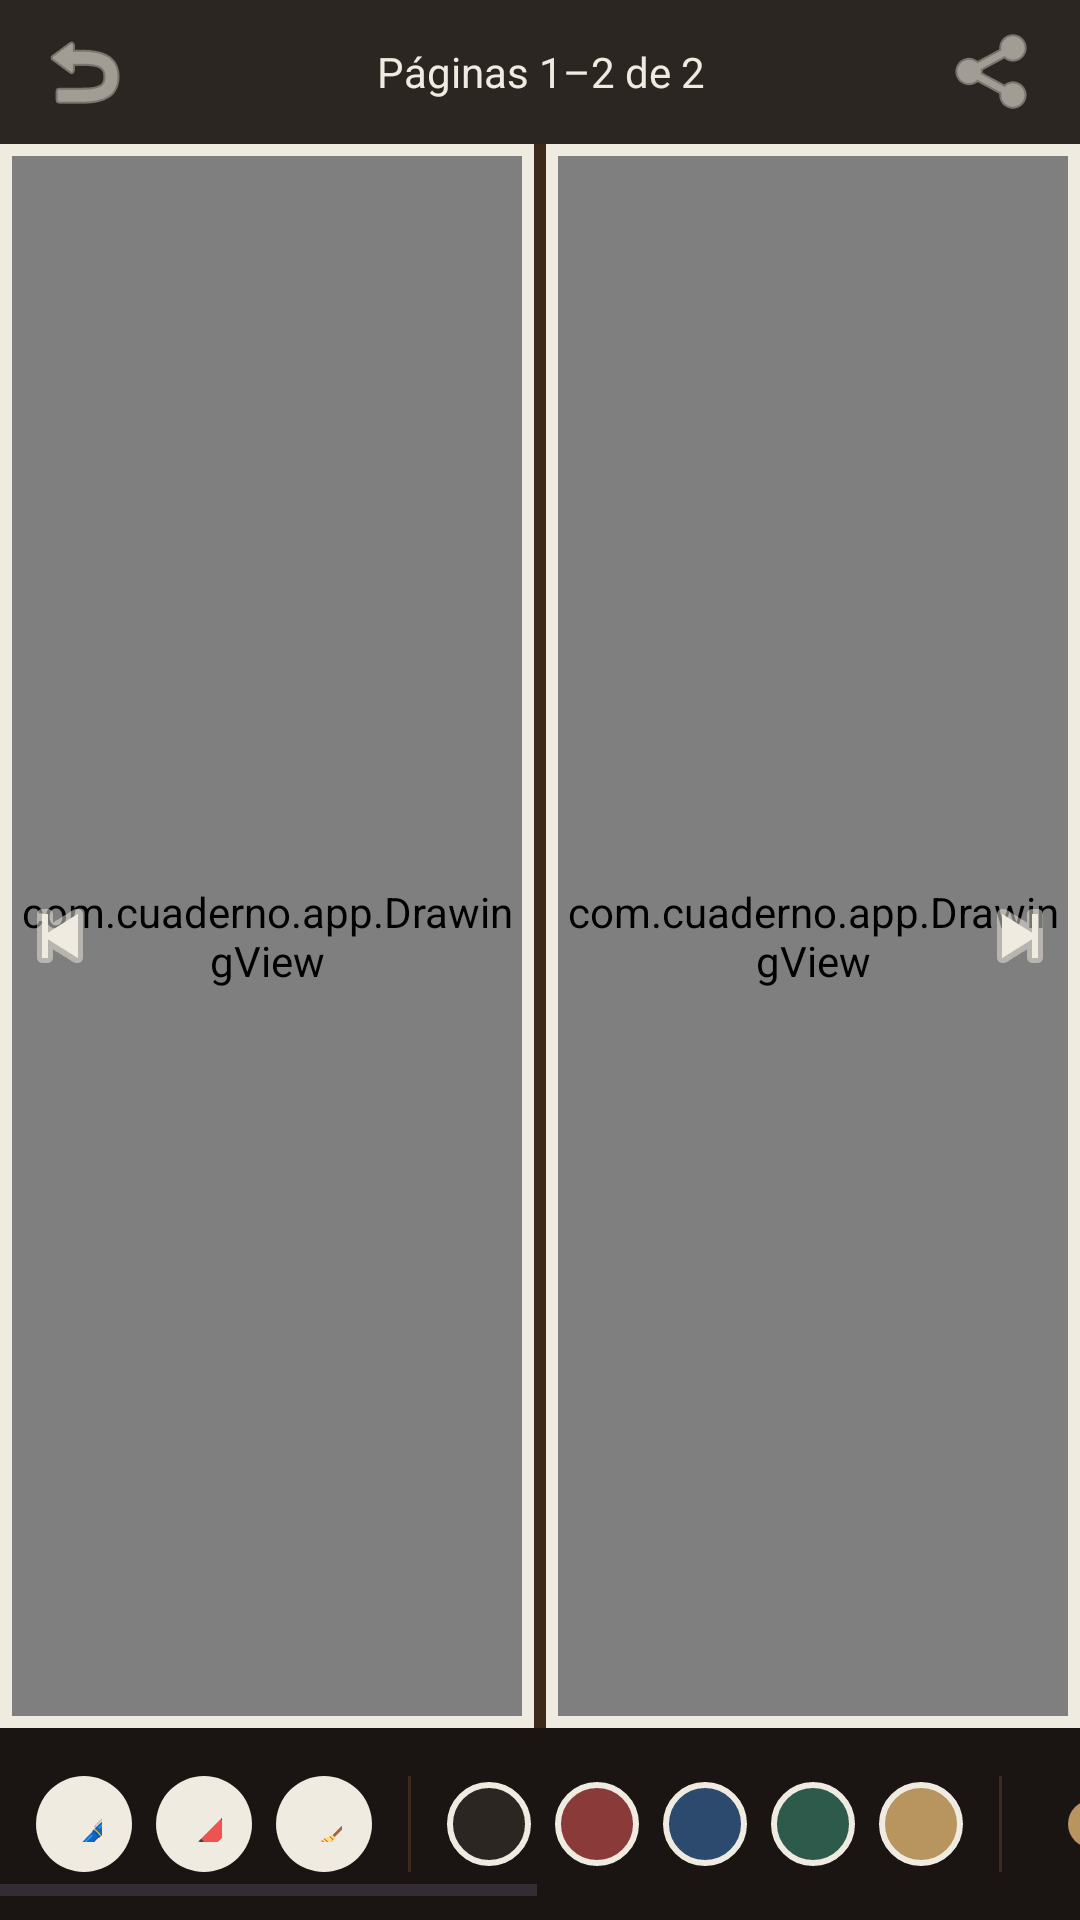

Icons on this 1080px x 1920px Android screen, each with the point to tap as [x,y]:
revert: [85,72]
share: [991,71]
